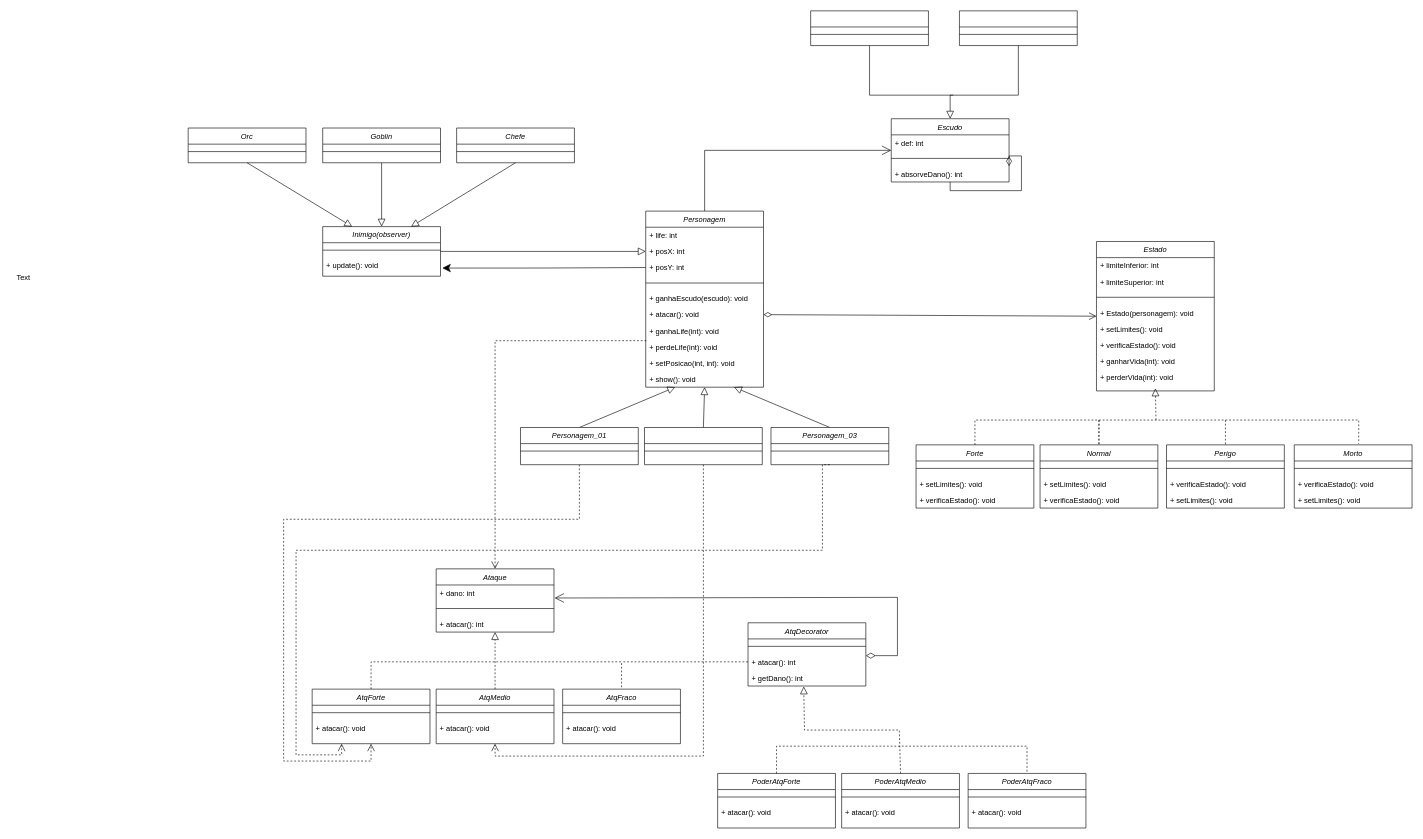
The diagram is 1423 pixels wide and 839 high, and some of its shapes have lost their labels. Here are the shapes that lost their labels. From the top down, the centre of each, then its label:
At point 869,28: "EscudoForte".
At point 1018,28: "EscudoFraco".
At point 703,446: "Personagem_02".
